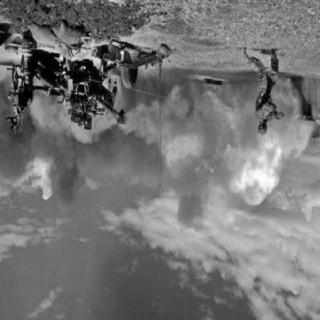Fire: (162, 71, 310, 225)
